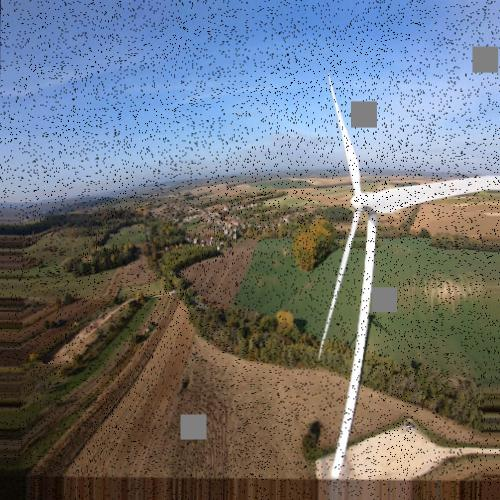wind turbine: (318, 75, 482, 476)
